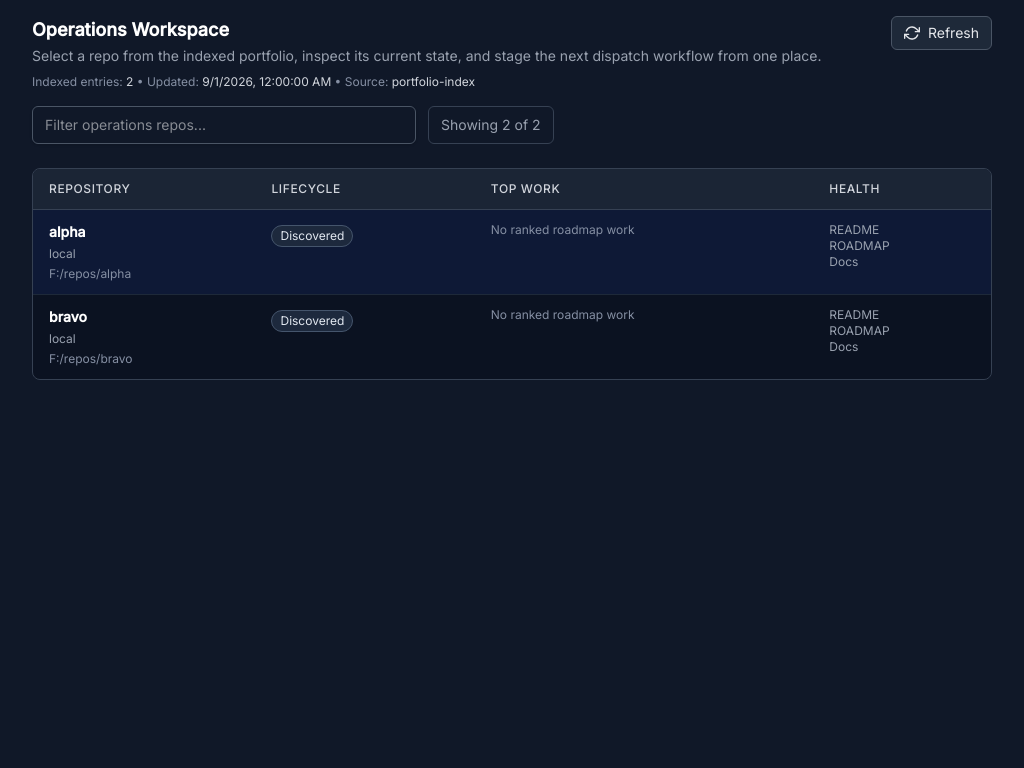
OperationsWorkspaceView — approval names a commit › says so plainly when no commit has been verified
Click the text "alpha". click: (67,232)
box: [49,223,86,240]
(page scrolled)
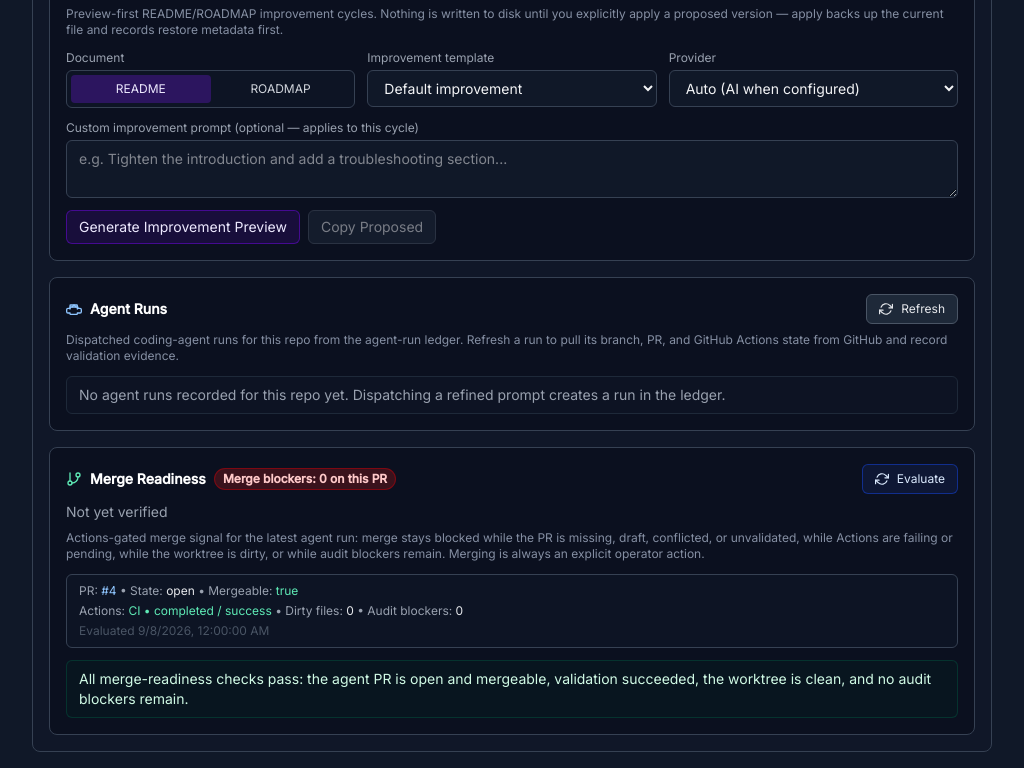
Now the text "Not yet verified" is shown, box [66,502,168,522]
Now the text with test id "merge-verified-head" reads "Not yet verified", box [66,503,168,520]
